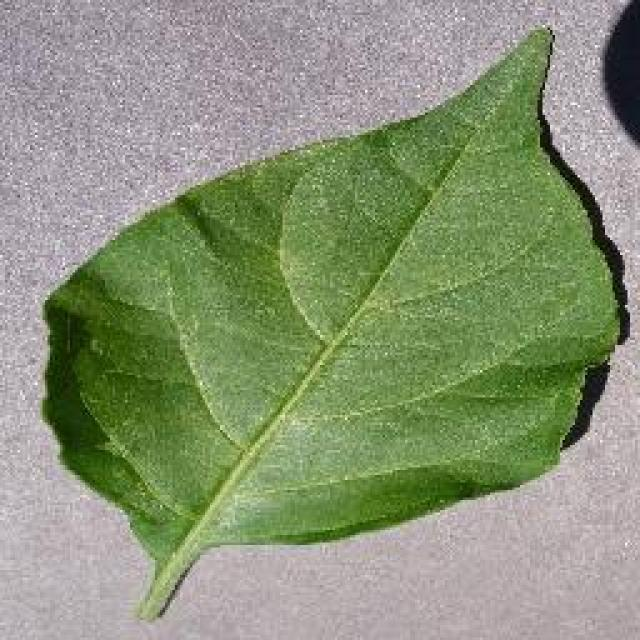Chilli_Healthy: (37, 22, 625, 620)
